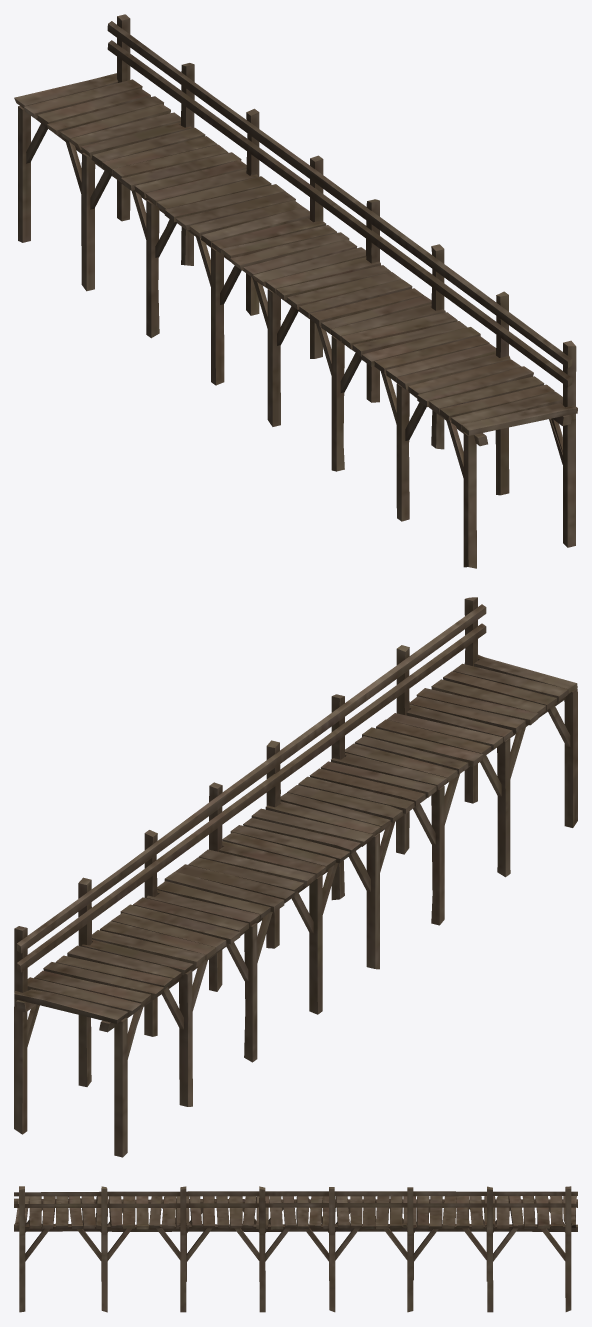
The model's file is old-bridge.zfix-v1.lod1.glb.
3 views of the same model, one above another, from view 1: azimuth 30°, elevation 25°; view 2: azimuth 150°, elevation 25°; view 3: azimuth 270°, elevation 25° (orthographic). The views are drawn at different scales.
Parts seen in each view (by area): view 1: defaultMaterial; view 2: defaultMaterial; view 3: defaultMaterial.
Boxes of the visible parts, bbox=[...] form: defaultMaterial: bbox=[14, 14, 577, 568]; defaultMaterial: bbox=[14, 597, 577, 1157]; defaultMaterial: bbox=[14, 1186, 577, 1312].
Bounding box in the file's own units: 2.63 × 4.59 × 19.
Materials: 1 (1 with a texture image).
